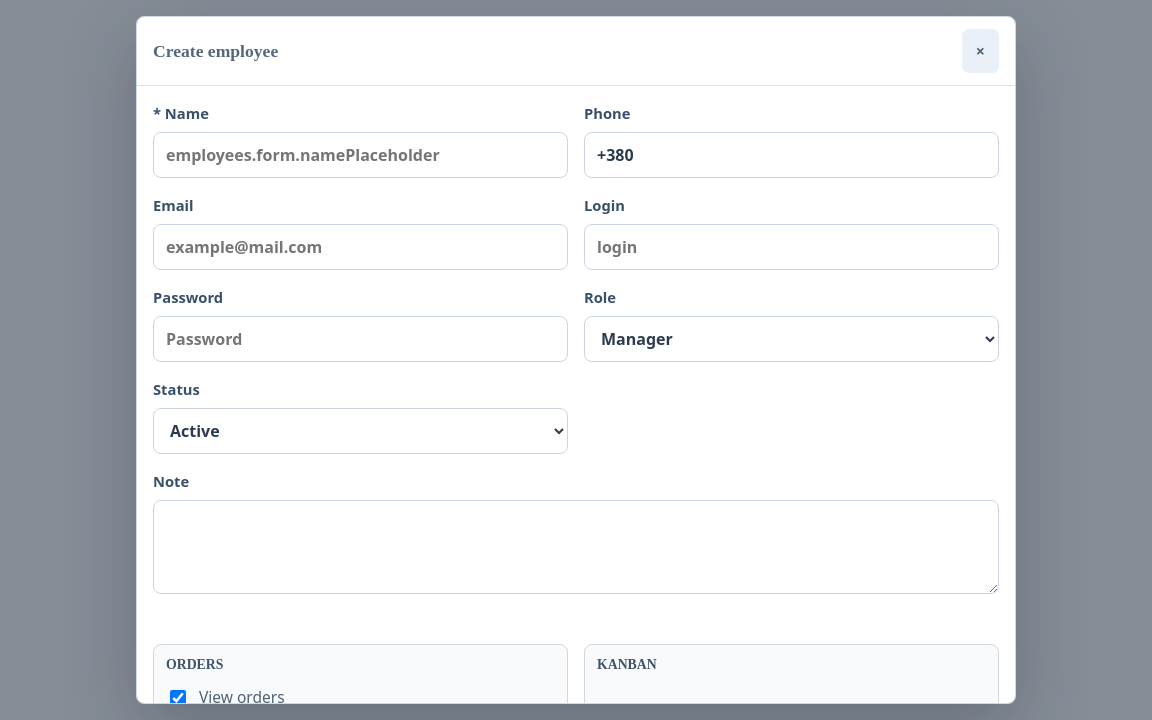
Test: EmployeeFormModal › activates default permission checkboxes when role changes
Select "Warehouse" in the dropdown labelled "Role" at (792, 339), box [584,316,999,362]
(page scrolled)
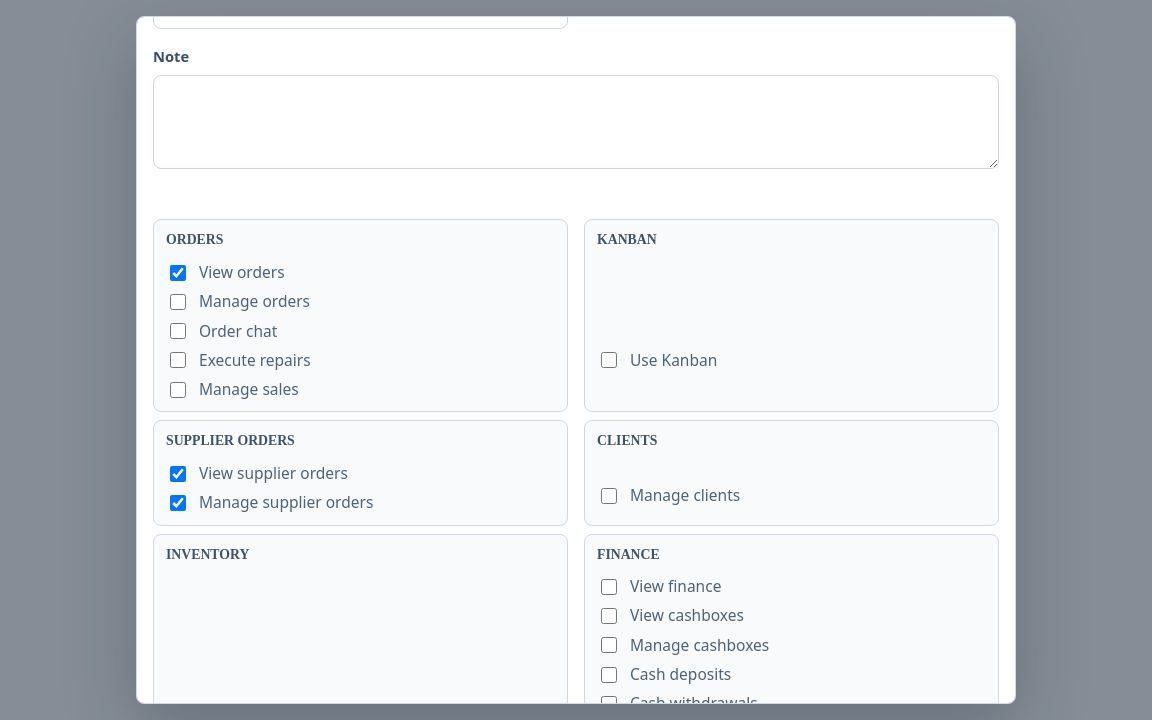
expect the checkbox labelled "View orders" is checked: met, box [170,265,186,281]
expect the checkbox labelled "View supplier orders" is checked: met, box [170,466,186,482]
expect the checkbox labelled "Manage supplier orders" is checked: met, box [170,495,186,511]
